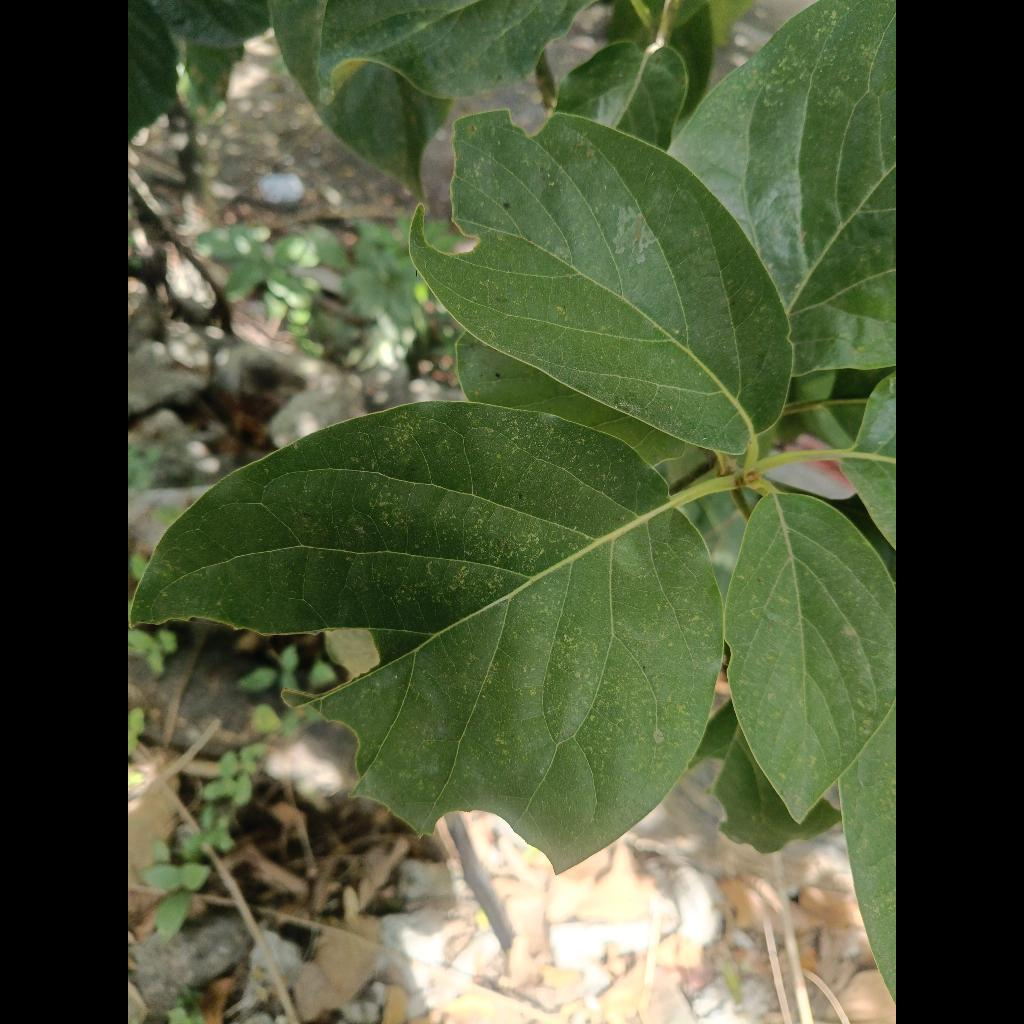Pest Infested: (135, 402, 722, 870), (411, 112, 792, 453)
